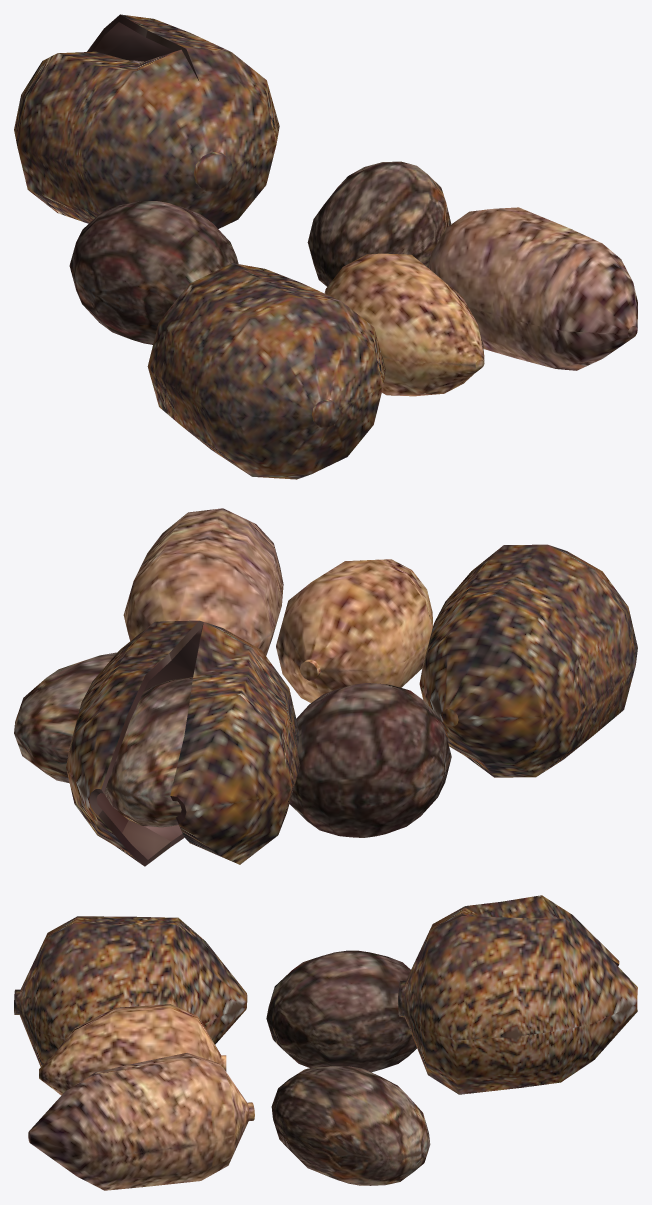
The model's file is sharen.FBX.
3 views of the same model, one above another, from view 1: azimuth 30°, elevation 25°; view 2: azimuth 150°, elevation 25°; view 3: azimuth 270°, elevation 25° (orthographic). The views are drawn at different scales.
Parts seen in each view (by area): view 1: Cylinder004, Cylinder003, Cylinder002, Sphere001, Cylinder001, Sphere002; view 2: Cylinder003, Cylinder004, Sphere001, Cylinder001, Cylinder002, Sphere003, Sphere002; view 3: Cylinder004, Cylinder002, Cylinder003, Sphere002, Sphere001, Cylinder001.
Part boxes in pixels (left/top/right/bottom): Cylinder004: left=14, top=14, right=279, bottom=228; Cylinder003: left=147, top=263, right=385, bottom=479; Cylinder002: left=428, top=207, right=637, bottom=370; Sphere001: left=69, top=201, right=238, bottom=344; Cylinder001: left=324, top=253, right=484, bottom=396; Sphere002: left=307, top=161, right=451, bottom=286; Cylinder003: left=419, top=544, right=637, bottom=777; Cylinder004: left=66, top=620, right=300, bottom=866; Sphere001: left=289, top=683, right=451, bottom=837; Cylinder001: left=276, top=559, right=433, bottom=702; Cylinder002: left=123, top=508, right=283, bottom=655; Sphere003: left=104, top=677, right=192, bottom=827; Sphere002: left=14, top=652, right=117, bottom=783; Cylinder004: left=398, top=895, right=637, bottom=1094; Cylinder002: left=28, top=1053, right=254, bottom=1190; Cylinder003: left=14, top=916, right=247, bottom=1066; Sphere002: left=271, top=1065, right=430, bottom=1185; Sphere001: left=266, top=950, right=416, bottom=1072; Cylinder001: left=39, top=1004, right=226, bottom=1095.
Size of the model in its own units: 40.2 by 21.1 by 55.58.
